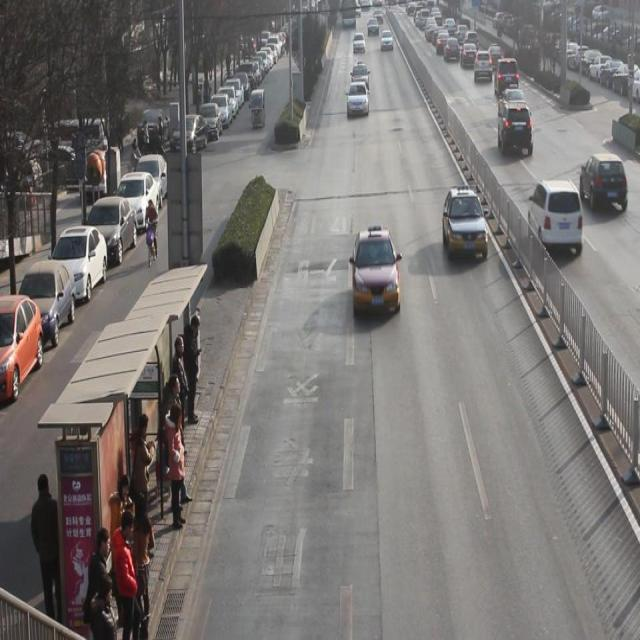car: (527, 182, 583, 260), (352, 230, 399, 318), (443, 187, 488, 261), (578, 156, 628, 215), (497, 105, 532, 160), (494, 60, 520, 96), (347, 84, 368, 120), (473, 53, 492, 83), (502, 86, 525, 107), (443, 39, 460, 64), (460, 45, 477, 70), (350, 64, 369, 84), (379, 32, 393, 56), (538, 32, 551, 56), (487, 45, 501, 65), (437, 33, 449, 56), (352, 34, 364, 57), (366, 20, 378, 38)
